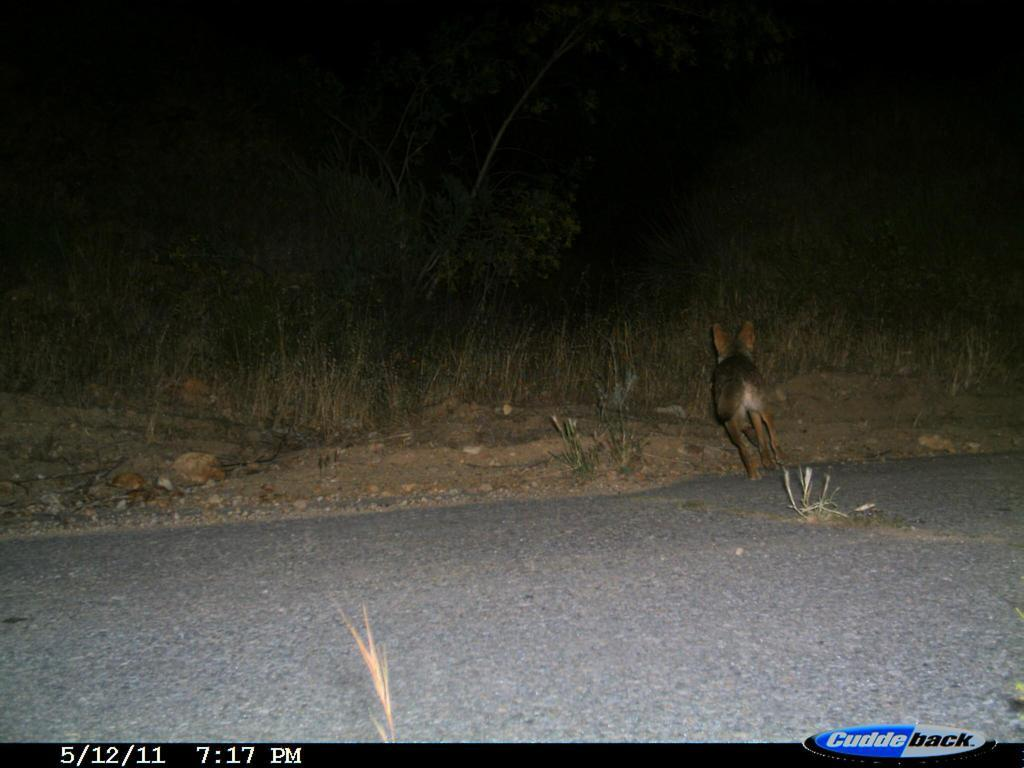coyote: (708, 317, 789, 486)
